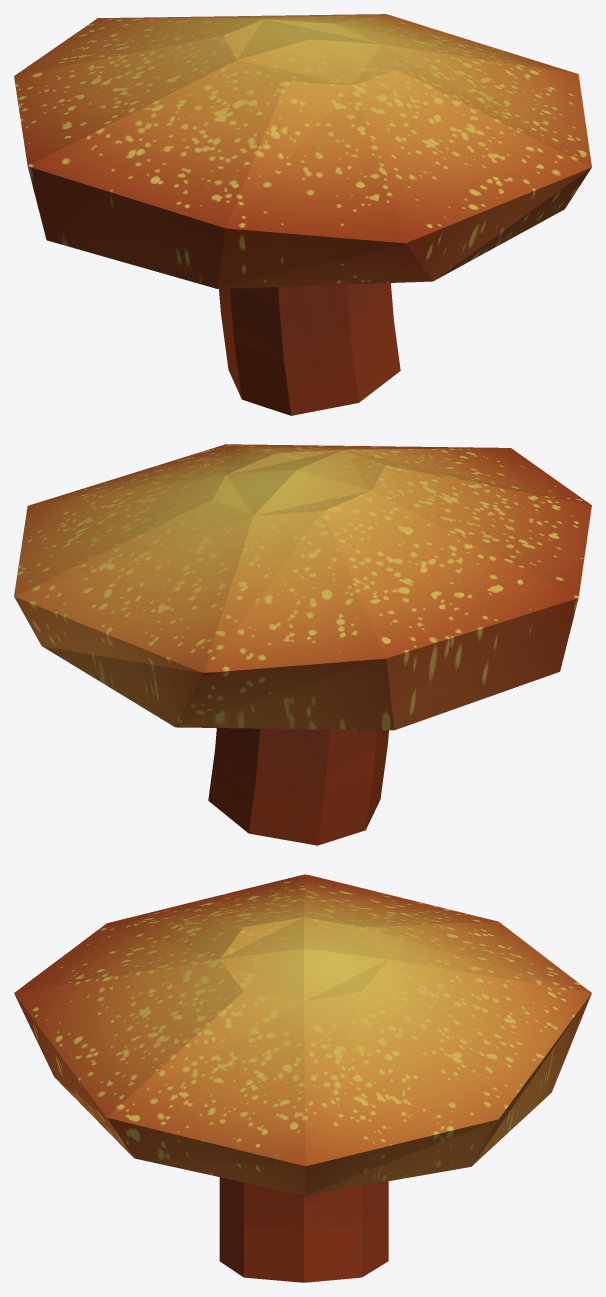
Rendered from shroom2VO-texture.fbx.
3 renders of one model, top to bottom at view 1: azimuth 30°, elevation 25°; view 2: azimuth 150°, elevation 25°; view 3: azimuth 270°, elevation 25°, orthographic. The views are drawn at different scales.
Visible parts, largest first — view 1: pCube1; view 2: pCube1; view 3: pCube1.
Part boxes in pixels (left/top/right/bottom): pCube1: left=14, top=14, right=591, bottom=415; pCube1: left=14, top=444, right=591, bottom=845; pCube1: left=14, top=874, right=591, bottom=1282.
Size of the model in its own units: 3.53 by 2.1 by 3.42.
